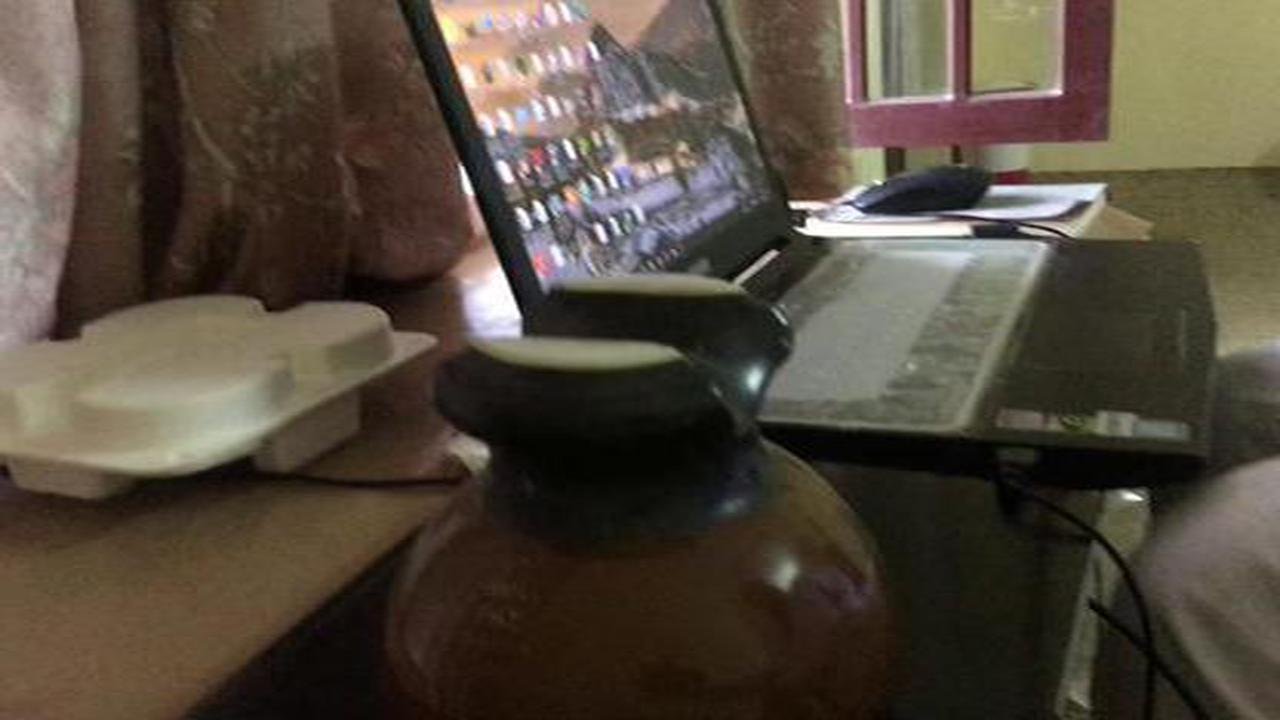insulator_pin: (364, 258, 933, 719)
